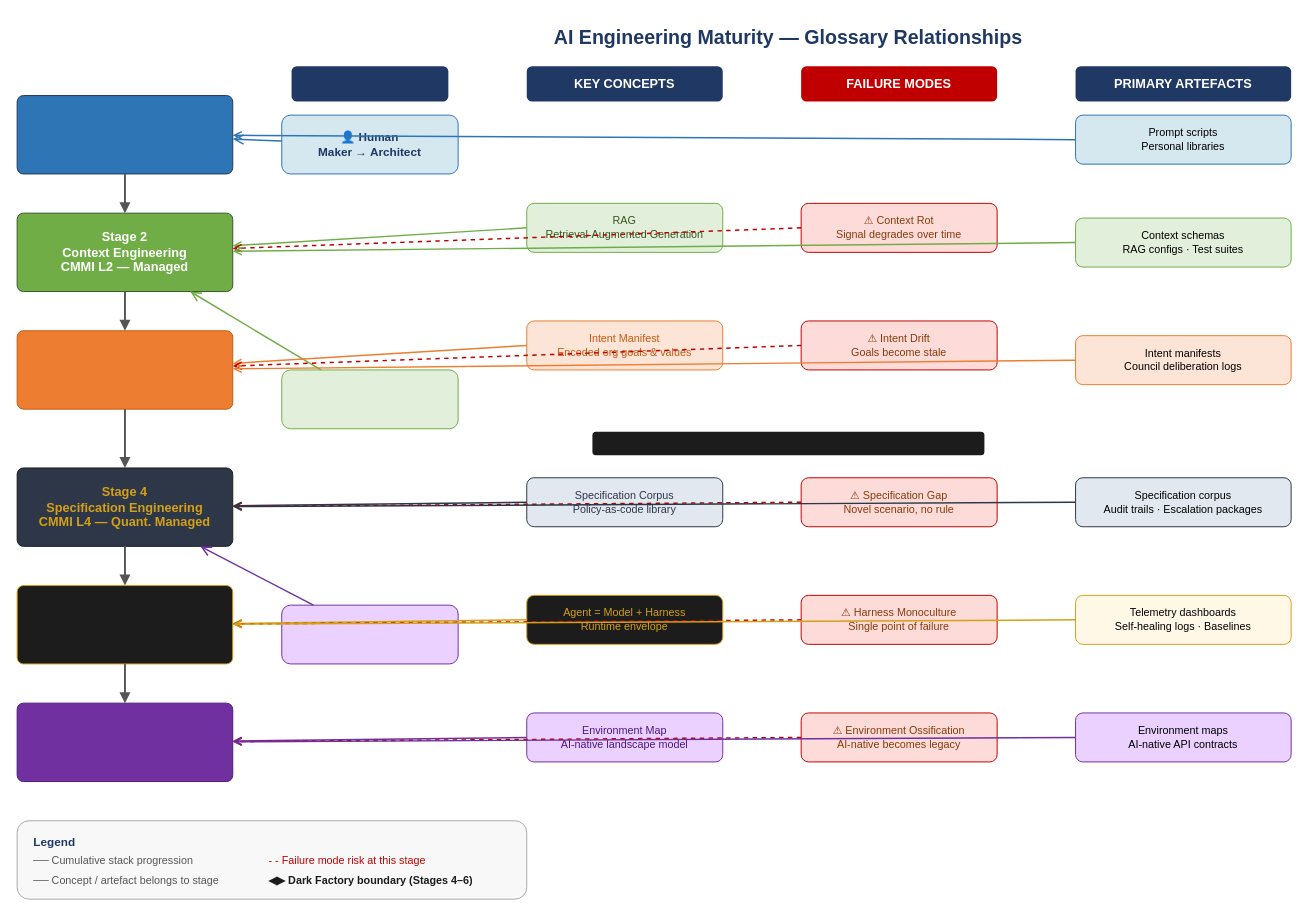
The diagram is 1308 pixels wide and 916 high, and some of its shapes have lost their labels. The shapes that lost their labels are listed below. From the top down, each one's centre as x and y in pixels, then its label:
the point at 369,83: ACTORS
the point at 124,134: Stage 1 Prompt Engineering CMMI L1 — Initial
the point at 124,369: Stage 3 Intent Engineering CMMI L3 — Defined
the point at 369,399: 🤖 Agent Oracle → Navigator
the point at 788,443: ◀ DARK FACTORY BOUNDARY ▶
the point at 124,624: Stage 5 Harness Engineering CMMI L5 — Optimising
the point at 369,634: ⚖️ Agent Council Informal → Steward
the point at 124,742: Stage 6 Environment Engineering CMMI L6 — Transcending
